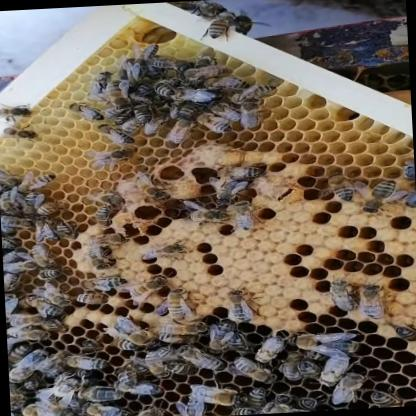bee: (22, 244, 410, 416), (57, 42, 327, 163), (0, 79, 79, 368), (300, 156, 416, 227), (262, 270, 416, 317)
